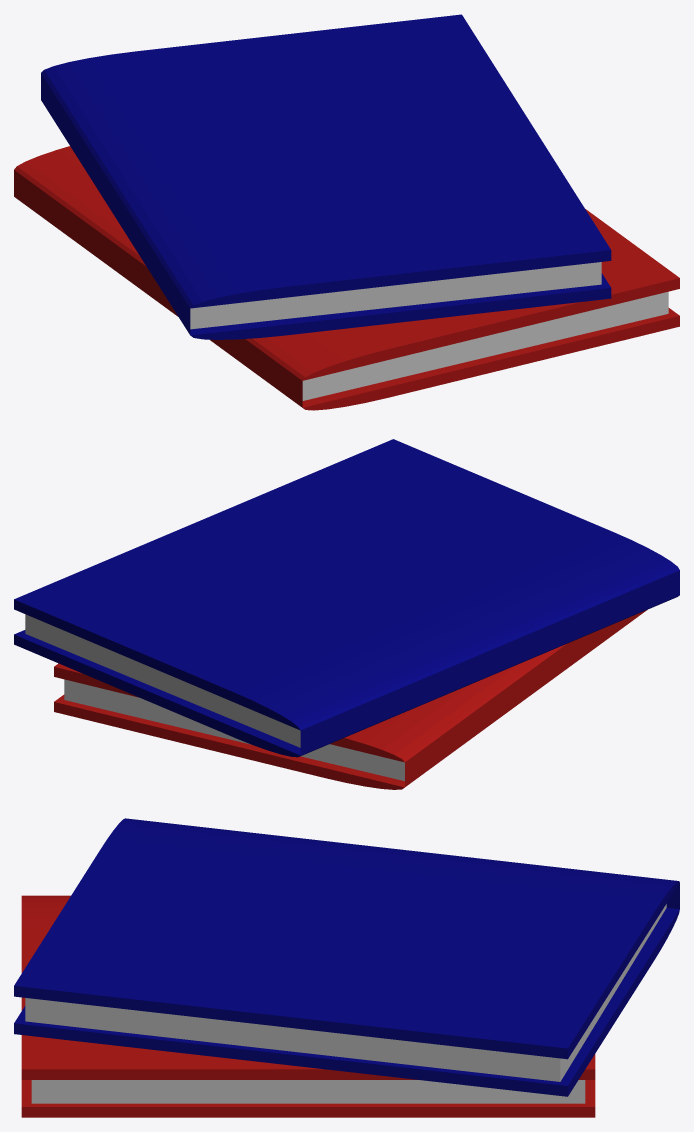
The model's file is buku.obj.
The picture shows the model from 3 angles, top to bottom: view 1: azimuth 30°, elevation 25°; view 2: azimuth 150°, elevation 25°; view 3: azimuth 270°, elevation 25°; orthographic projection. The views are drawn at different scales.
Parts seen in each view (by area): view 1: Books2_Cube.112; view 2: Books2_Cube.112; view 3: Books2_Cube.112.
Part boxes in pixels (left/top/right/bottom): Books2_Cube.112: left=14, top=14, right=679, bottom=410; Books2_Cube.112: left=14, top=439, right=679, bottom=789; Books2_Cube.112: left=14, top=818, right=679, bottom=1117.
Size of the model in its own units: 0.5627 by 0.1058 by 0.6612.
